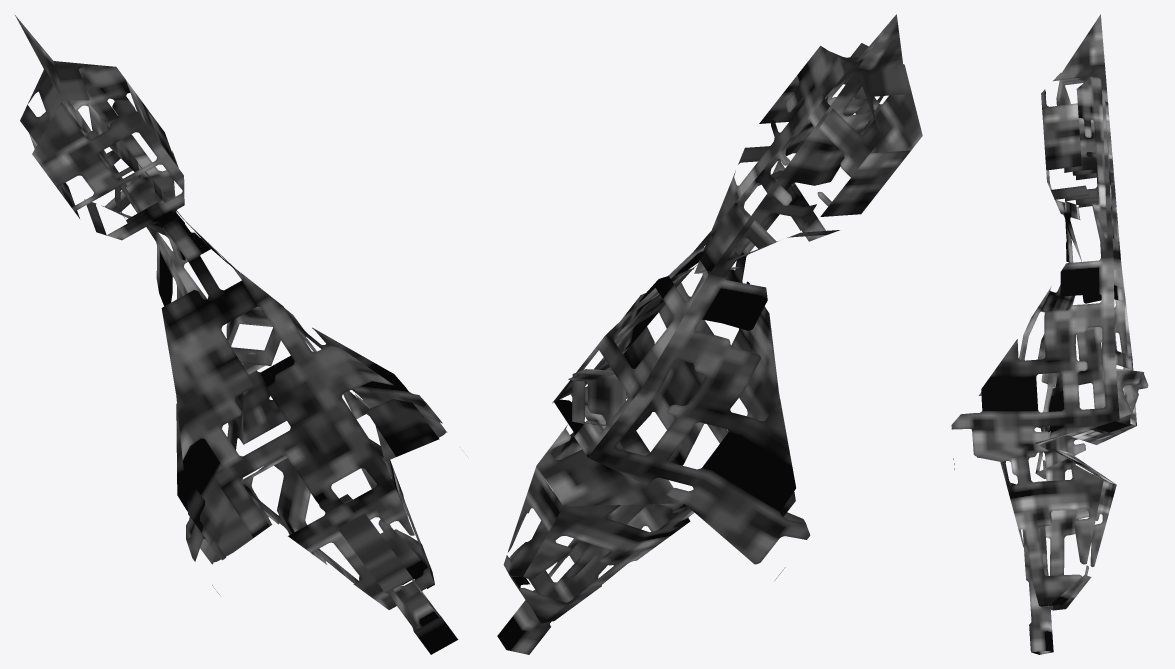
File: mediumcopter_wreck_backward.glb
The picture shows the model from 3 angles, left to right: view 1: azimuth 30°, elevation 25°; view 2: azimuth 150°, elevation 25°; view 3: azimuth 270°, elevation 25°; orthographic projection. The views are drawn at different scales.
Visible parts, largest first — view 1: MediumCopter; view 2: MediumCopter; view 3: MediumCopter.
Part boxes in pixels (x1,y1,x2,y2): MediumCopter: (15,15,458,654); MediumCopter: (497,14,922,654); MediumCopter: (951,14,1148,654).
Bounding box in the file's own units: 6.44 × 10.8 × 4.02.
1 material, 1 textured.
